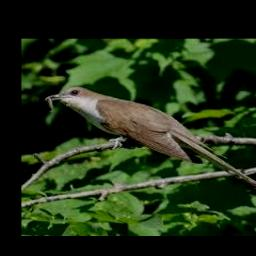Cuckoo: (46, 86, 256, 194)
